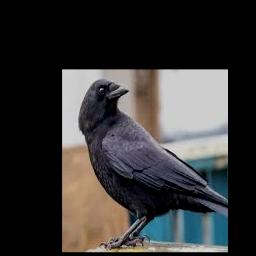Crow: (78, 79, 228, 250)
